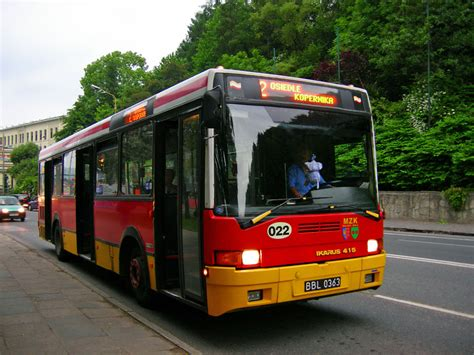bus: (38, 70, 385, 313)
